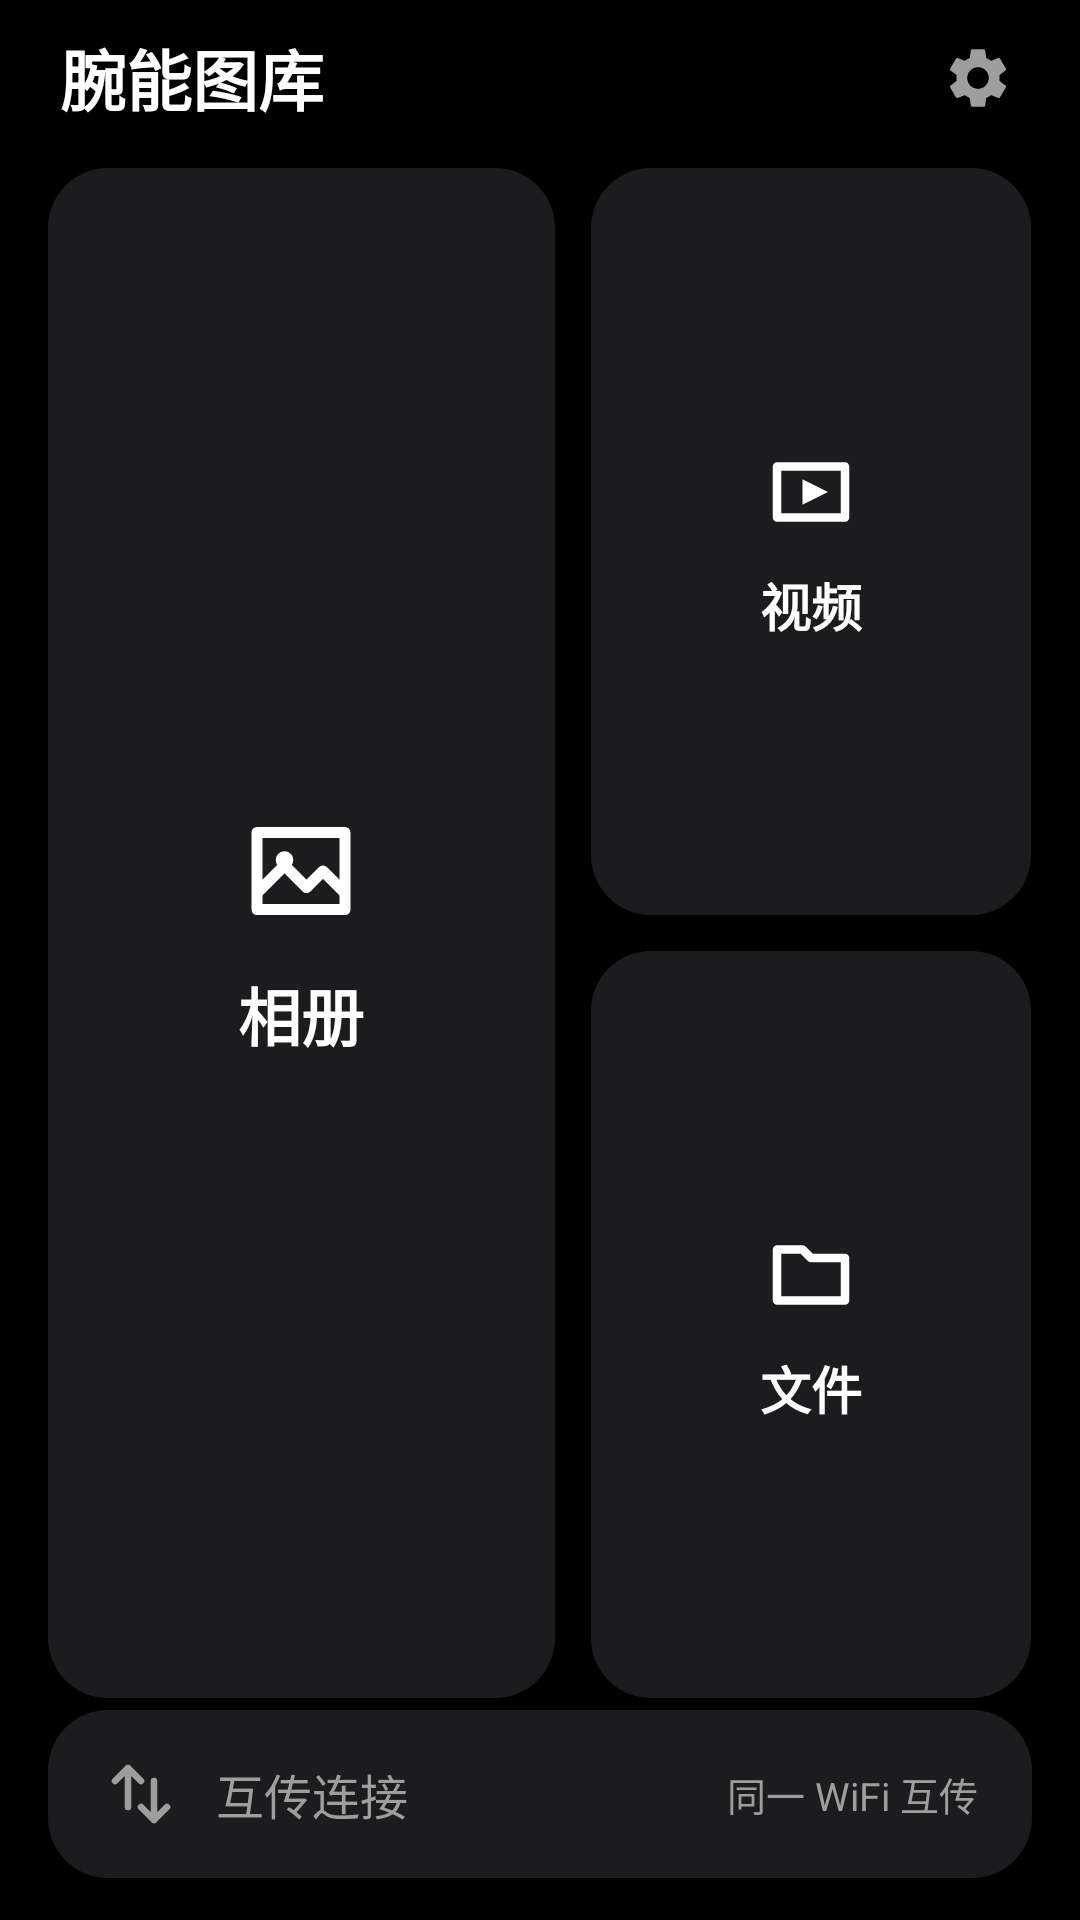

Where to tap for icons on this 1080×1920 app screen, as (x,y):
folder: (811,1275)
transfer: (141,1794)
video: (811,492)
设置: (978,78)
